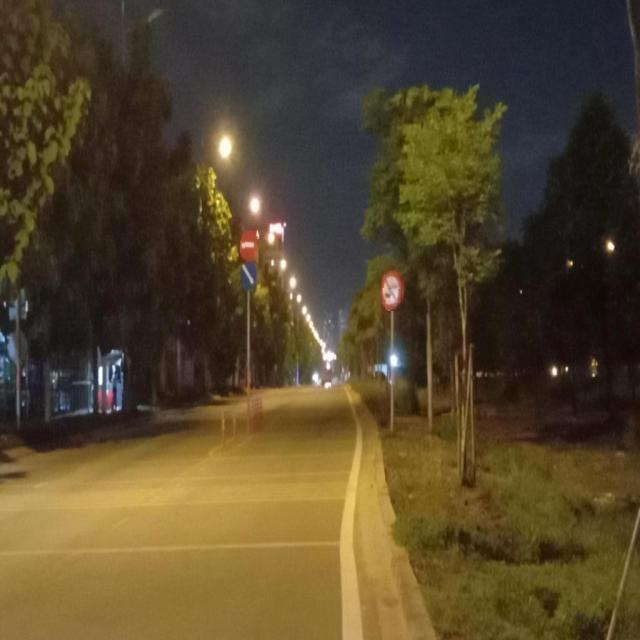102-cam-di-nguoc-chieu: (237, 231, 260, 261)
107-cam-oto-khach-va-oto-tai: (382, 267, 404, 311)
302a-huong-phai-di-vong-chuong-ngai-vat-1: (239, 263, 257, 289)
